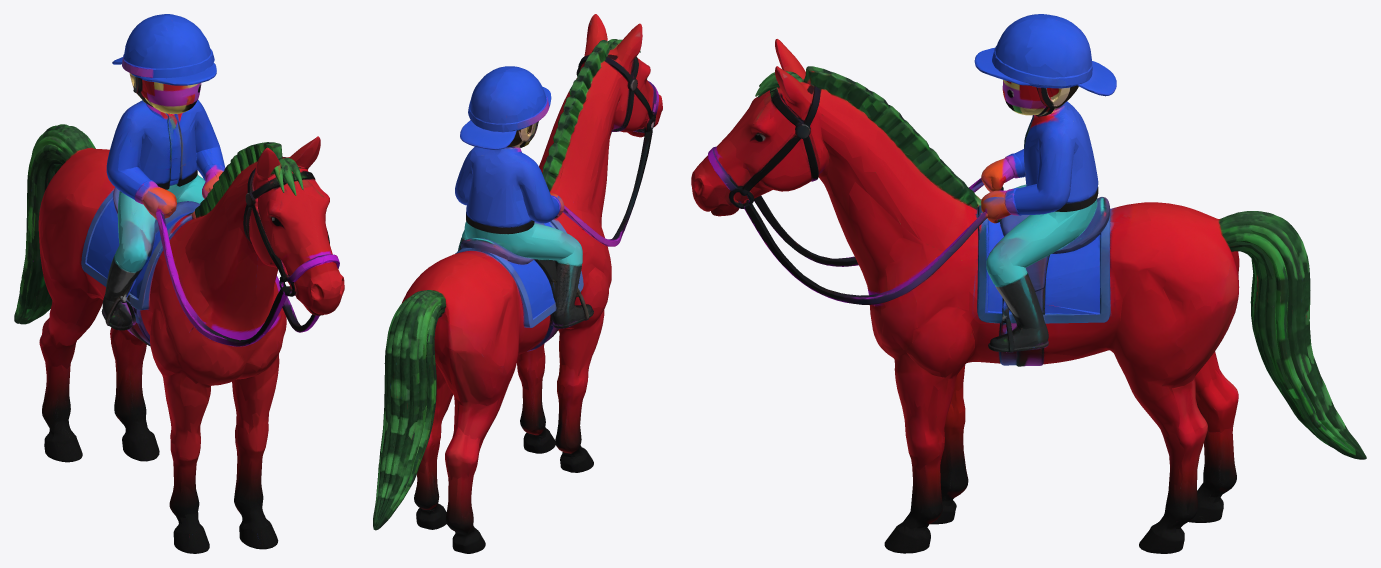
Rendered from meshy-padrao-folhas.glb.
3 views of the same model, side by side, from view 1: azimuth 30°, elevation 25°; view 2: azimuth 150°, elevation 25°; view 3: azimuth 270°, elevation 25° (orthographic). The views are drawn at different scales.
Size of the model in its own units: 0.5341 by 1.6 by 1.9.
1 material, 1 textured.
